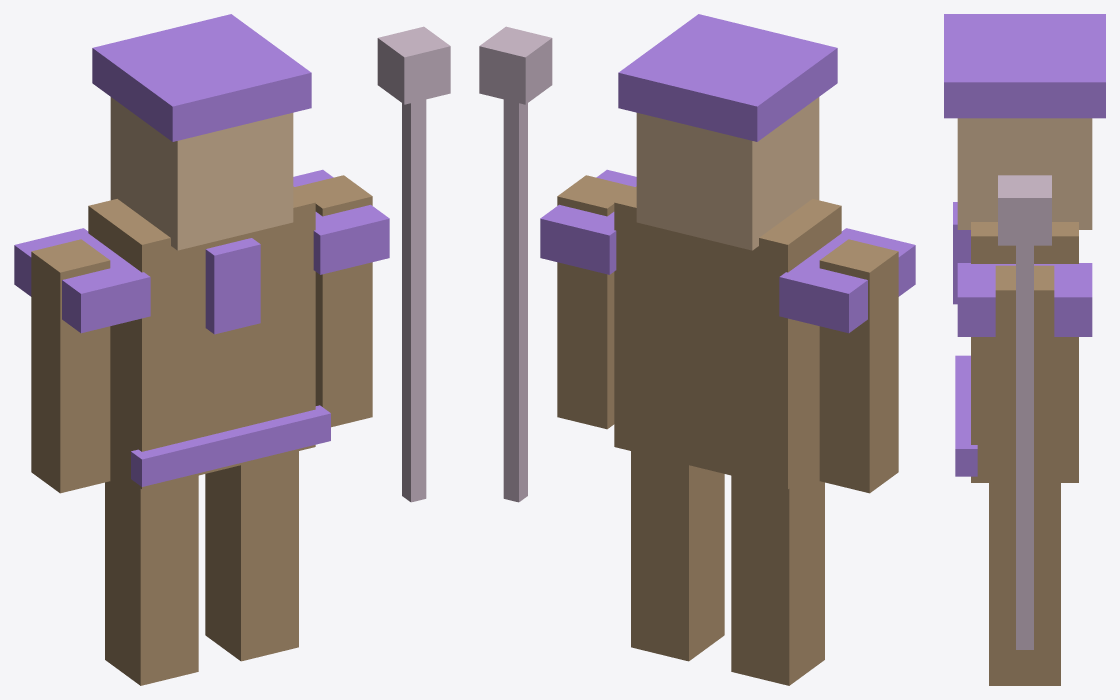
Rendered from 03_draven_ashvein_scout_under_tuning.glb.
3 views of the same model, side by side, from view 1: azimuth 30°, elevation 25°; view 2: azimuth 150°, elevation 25°; view 3: azimuth 270°, elevation 25° (orthographic).
Parts seen in each view (by area): view 1: Draven Ashvein, Scout under Tuning; view 2: Draven Ashvein, Scout under Tuning; view 3: Draven Ashvein, Scout under Tuning.
Part boxes in pixels (x1=…): Draven Ashvein, Scout under Tuning: x1=14, y1=14, x2=450, y2=685; Draven Ashvein, Scout under Tuning: x1=479, y1=14, x2=915, y2=685; Draven Ashvein, Scout under Tuning: x1=944, y1=14, x2=1105, y2=685.
Size of the model in its own units: 1.1 by 1.6 by 0.3909.
